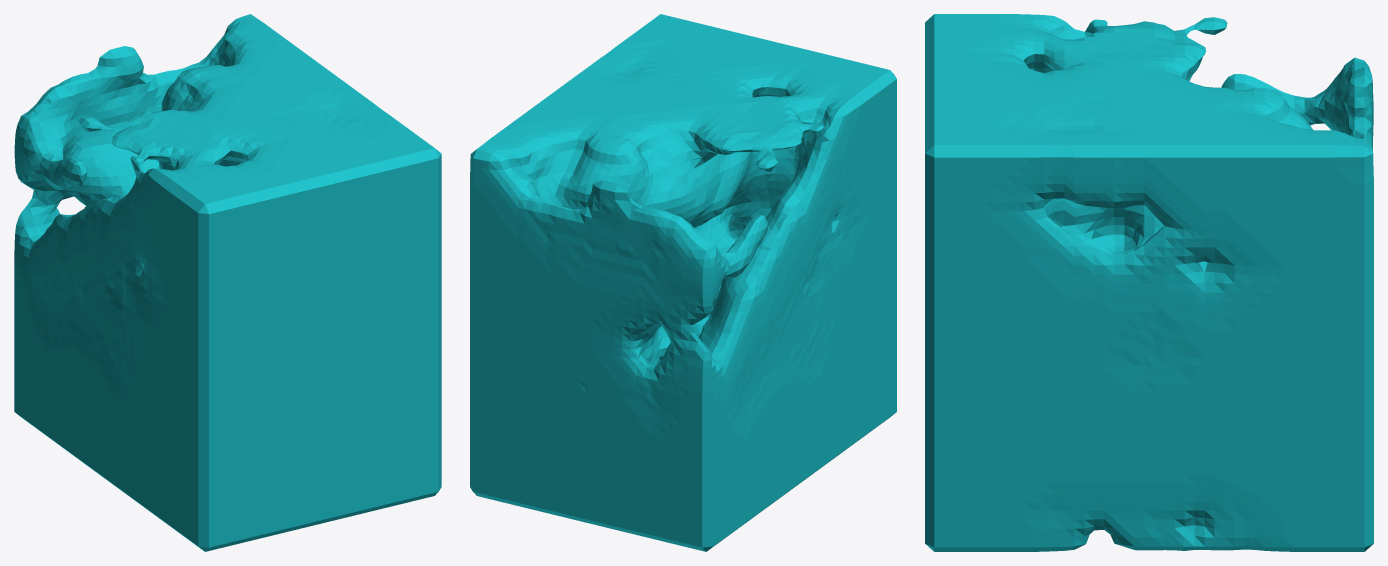
3 renders of one model, left to right at view 1: azimuth 30°, elevation 25°; view 2: azimuth 150°, elevation 25°; view 3: azimuth 270°, elevation 25°, orthographic. The views are drawn at different scales.
Parts seen in each view (by area): view 1: Liquid_Domain; view 2: Liquid_Domain; view 3: Liquid_Domain.
Part boxes in pixels (box(x1,y1,x2,y2)): Liquid_Domain: box(14, 14, 441, 551); Liquid_Domain: box(470, 14, 896, 551); Liquid_Domain: box(925, 14, 1373, 551).
Bounding box in the file's own units: 79.09 × 108 × 108.
